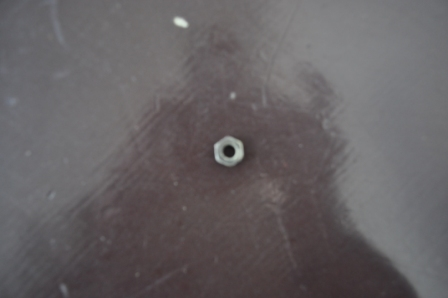BOLT: (212, 135, 246, 167)
